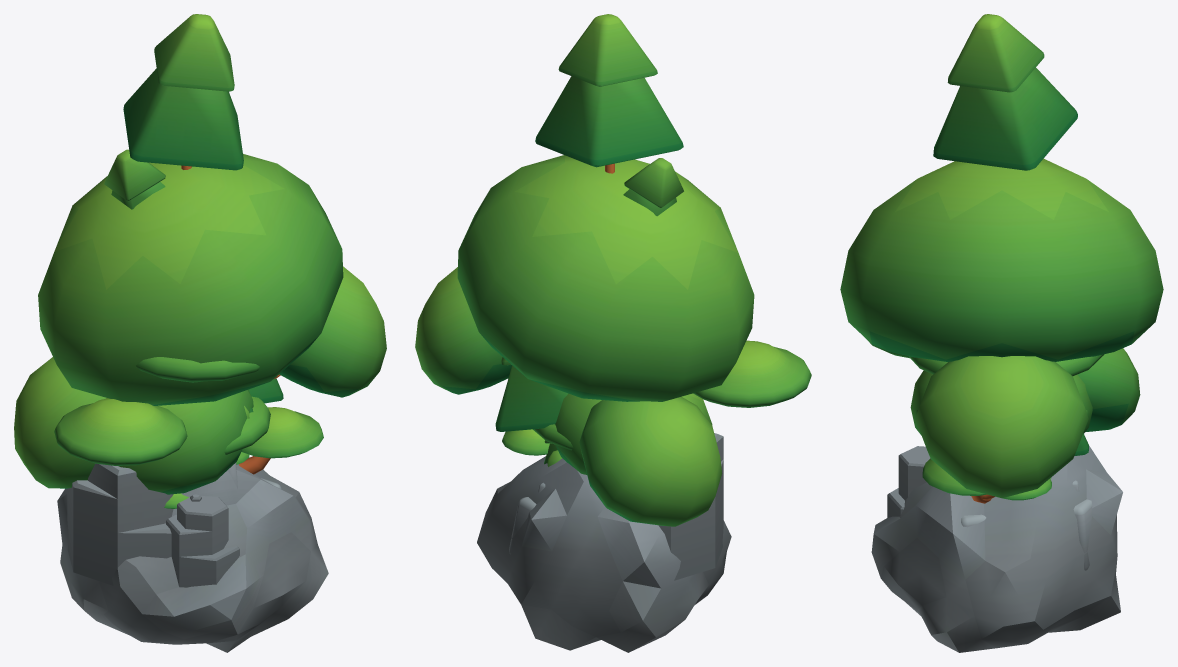
Rendered from forest.glb.
3 views of the same model, side by side, from view 1: azimuth 30°, elevation 25°; view 2: azimuth 150°, elevation 25°; view 3: azimuth 270°, elevation 25° (orthographic). The views are drawn at different scales.
Parts seen in each view (by area): view 1: Tree_1_C_Color1, Rock_3_Q_Color1, Tree_4_C_Color1, Rock_1_J_Color1, Tree_3_C_Color1, Tree_1_A_Color1, Tree_3_A_Color1; view 2: Tree_1_C_Color1, Rock_3_Q_Color1, Tree_4_C_Color1, Tree_3_C_Color1, Rock_1_J_Color1, Tree_1_A_Color1; view 3: Tree_1_C_Color1, Rock_3_Q_Color1, Tree_4_C_Color1, Tree_3_C_Color1, Rock_1_J_Color1, Rock_2_G_Color1, Tree_1_A_Color1.
Part boxes in pixels (box(x1,y1,x2,y2)): Tree_1_C_Color1: box(14, 154, 386, 488); Rock_3_Q_Color1: box(57, 457, 328, 652); Tree_4_C_Color1: box(104, 14, 283, 403); Rock_1_J_Color1: box(67, 463, 239, 587); Tree_3_C_Color1: box(54, 357, 323, 474); Tree_1_A_Color1: box(106, 390, 253, 494); Tree_3_A_Color1: box(164, 396, 270, 508); Tree_1_C_Color1: box(415, 155, 754, 526); Rock_3_Q_Color1: box(477, 456, 731, 652); Tree_4_C_Color1: box(495, 14, 683, 431); Tree_3_C_Color1: box(502, 340, 811, 455); Rock_1_J_Color1: box(658, 433, 723, 580); Tree_1_A_Color1: box(547, 393, 712, 474); Tree_1_C_Color1: box(840, 158, 1163, 498); Rock_3_Q_Color1: box(871, 445, 1122, 652); Tree_4_C_Color1: box(933, 14, 1088, 455); Tree_3_C_Color1: box(866, 339, 1104, 503); Rock_1_J_Color1: box(887, 446, 930, 517); Rock_2_G_Color1: box(961, 480, 1092, 570); Tree_1_A_Color1: box(910, 370, 1092, 478).
Bounding box in the file's own units: 7.18 × 12.04 × 5.75.
1 material, 1 textured.
